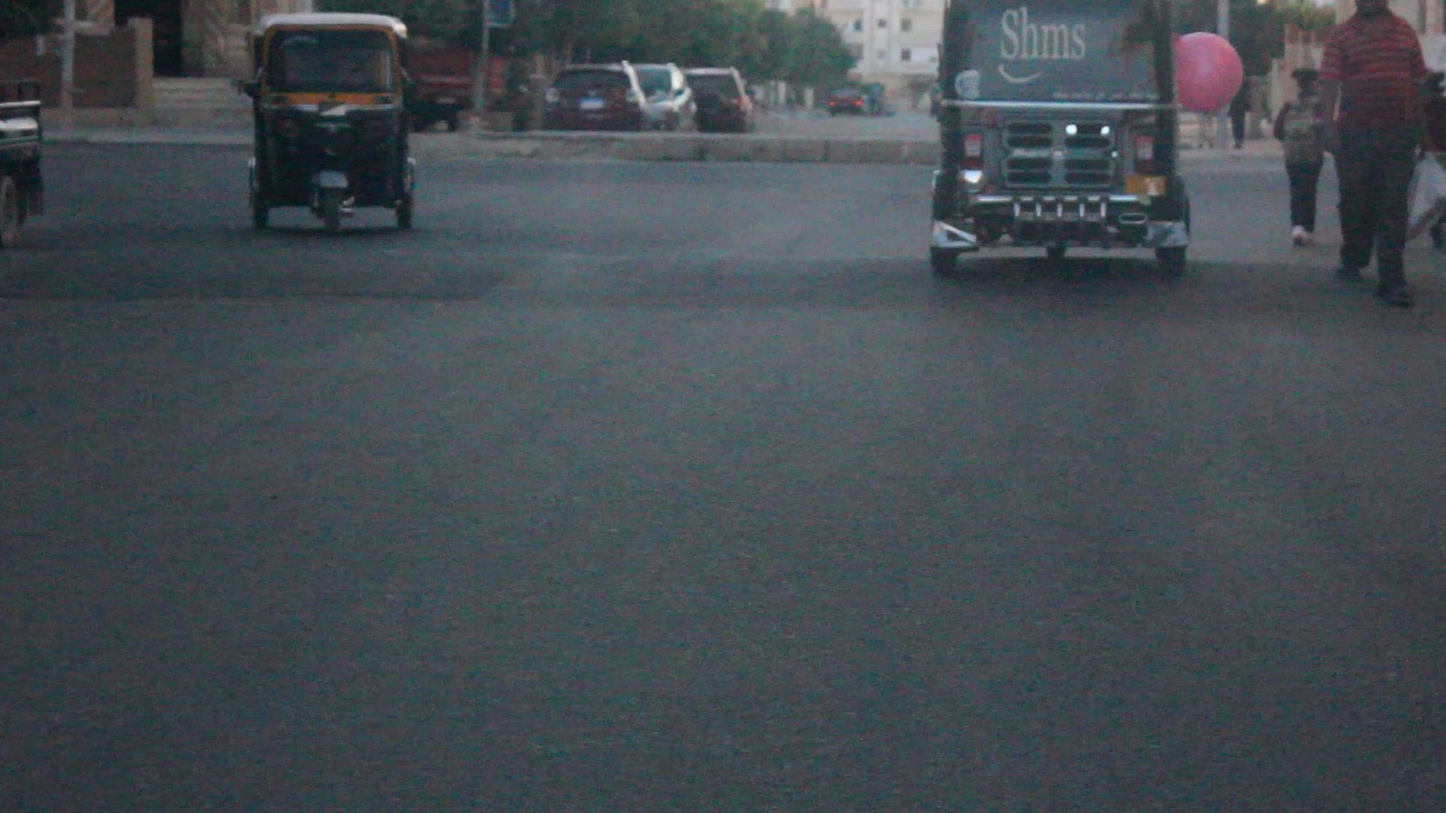Bump: (9, 235, 1446, 333)
